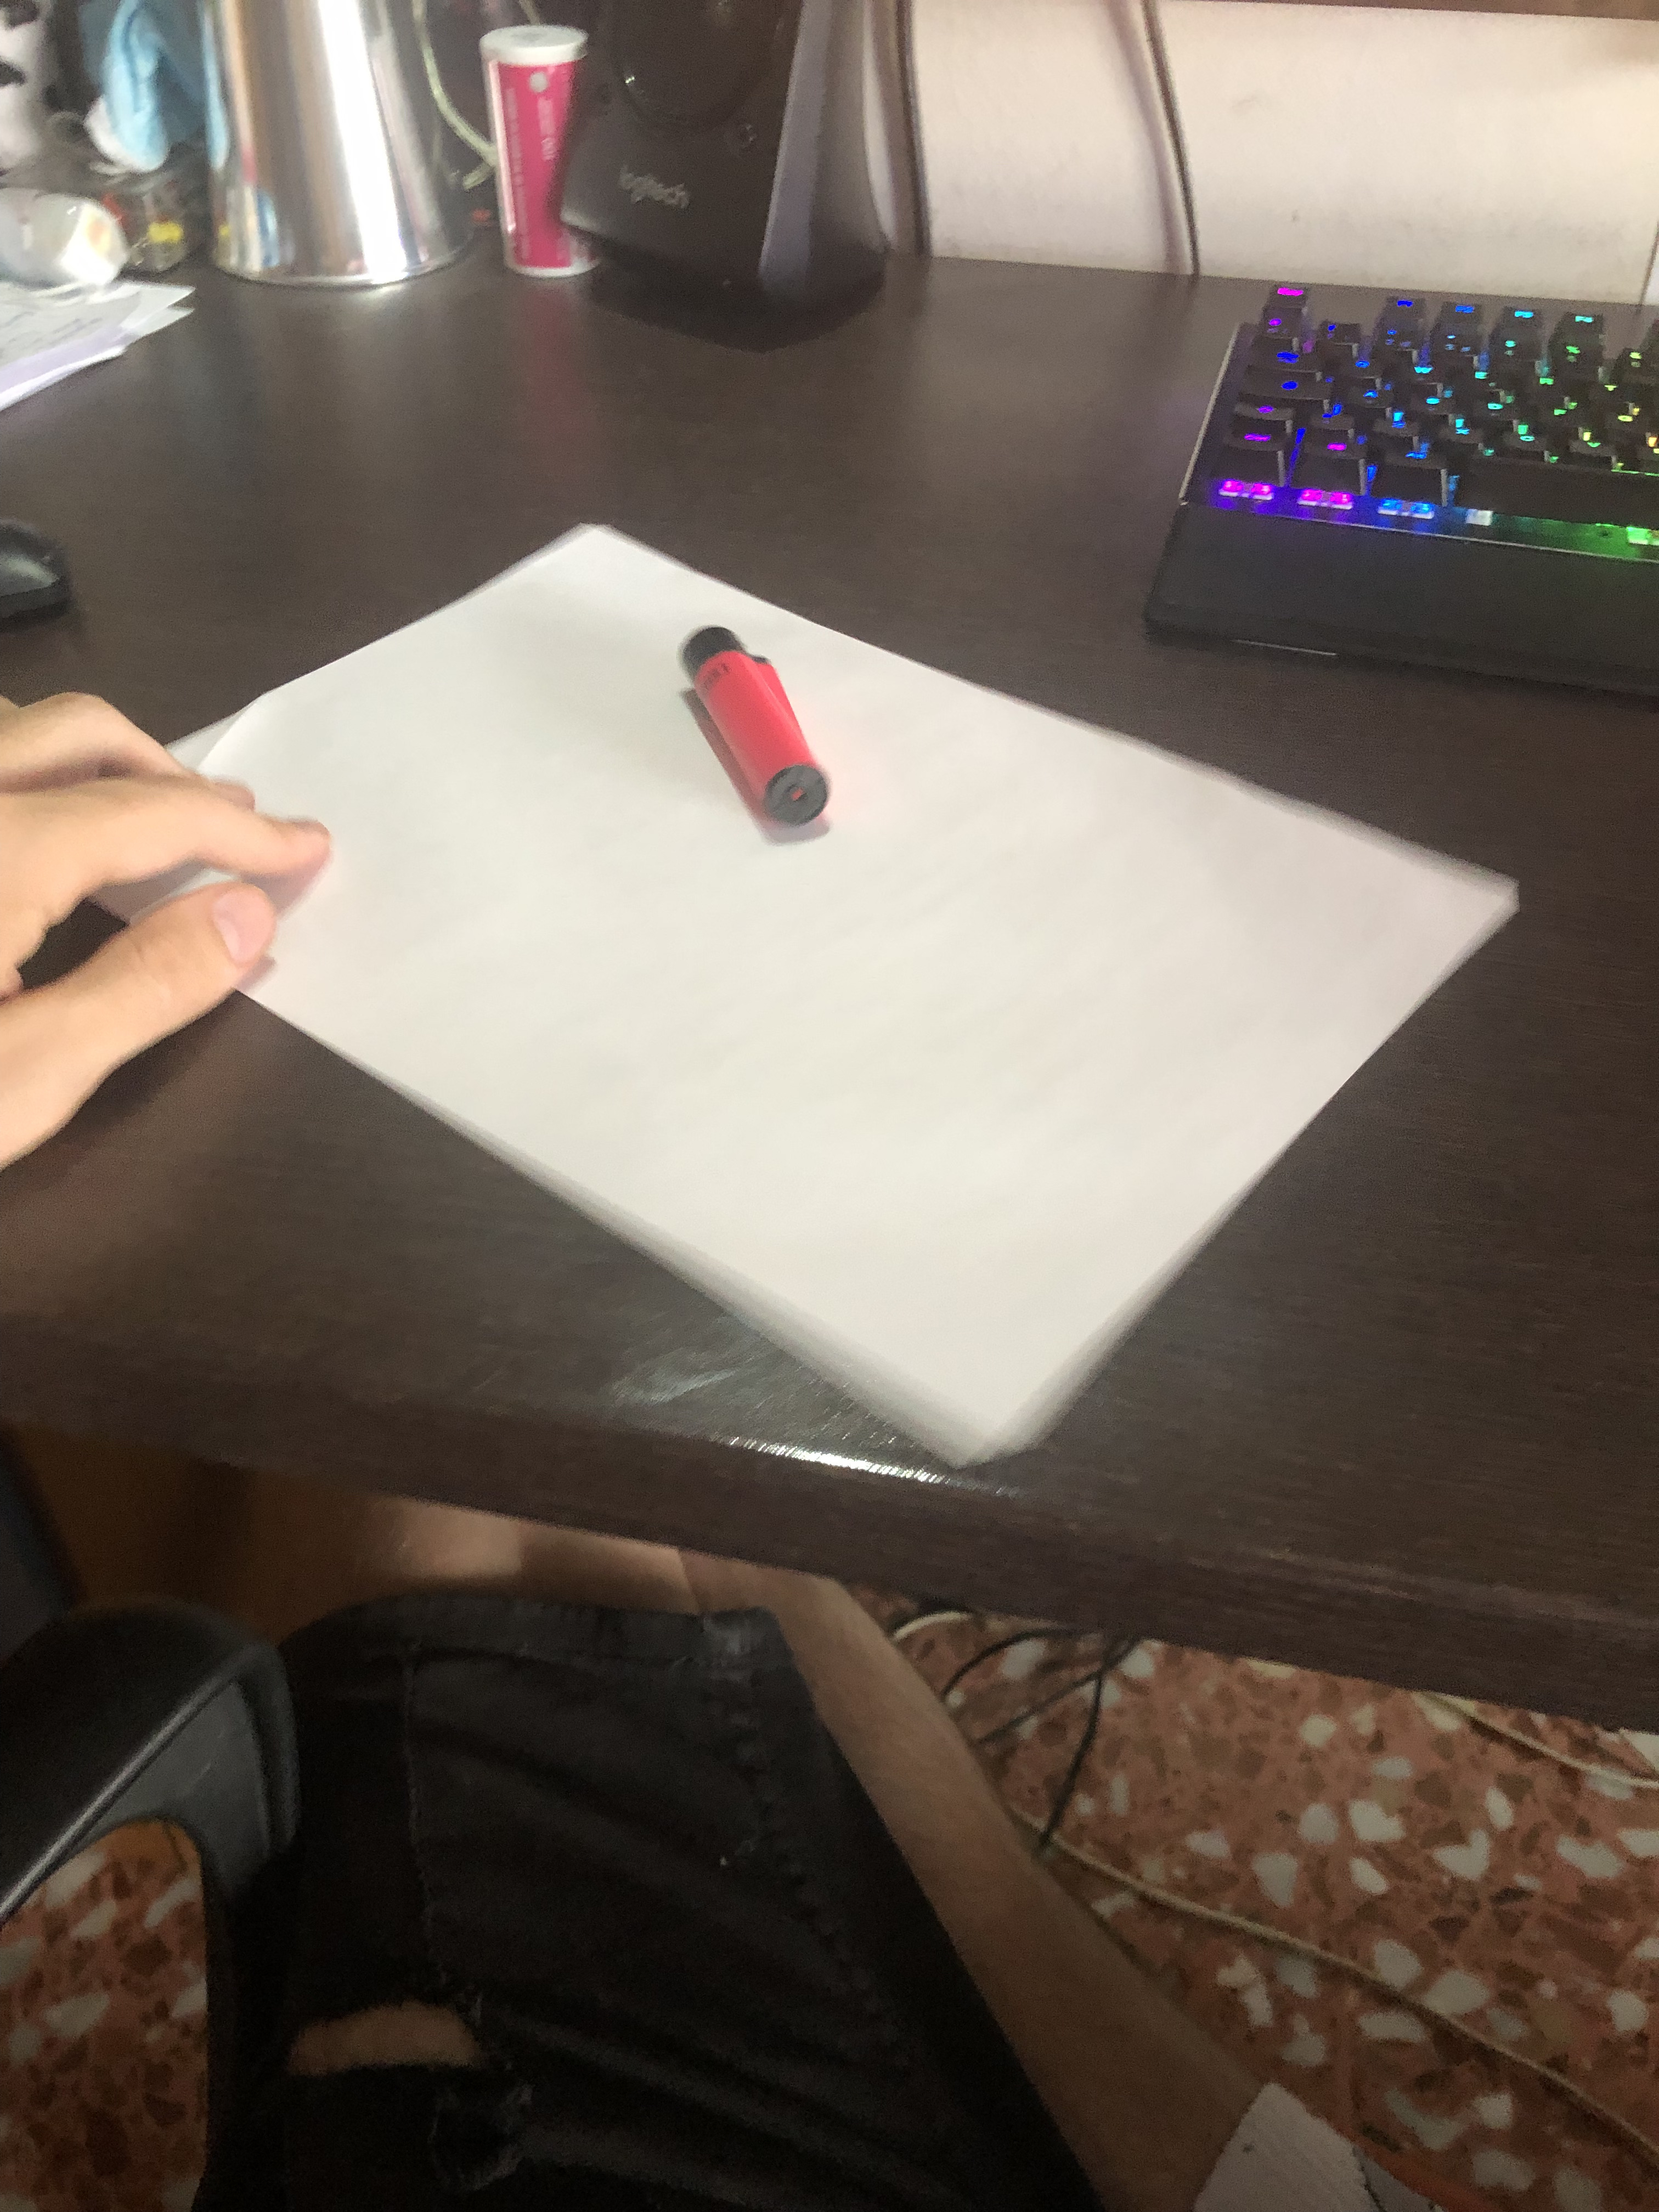Mechero: (683, 604, 866, 840)
